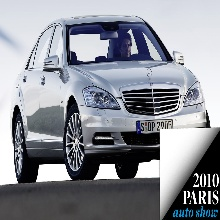no damage: (10, 15, 212, 183)
